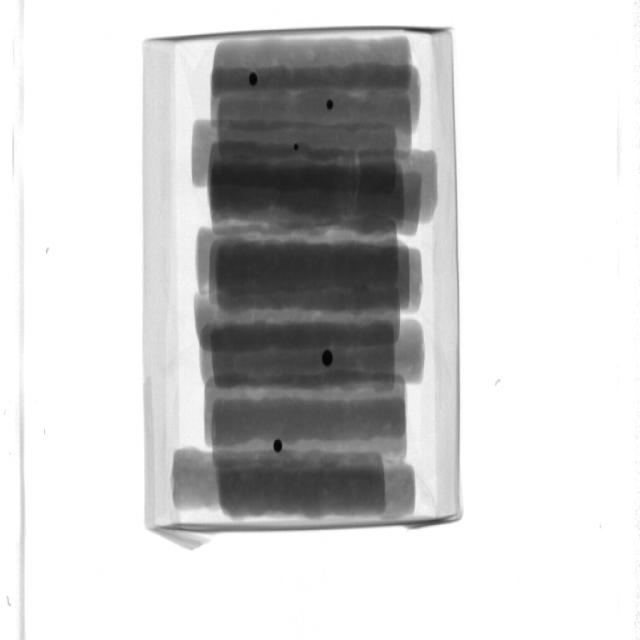ym: (323, 349, 334, 368), (249, 73, 259, 87), (275, 441, 284, 455), (327, 101, 335, 111), (293, 144, 300, 151)
